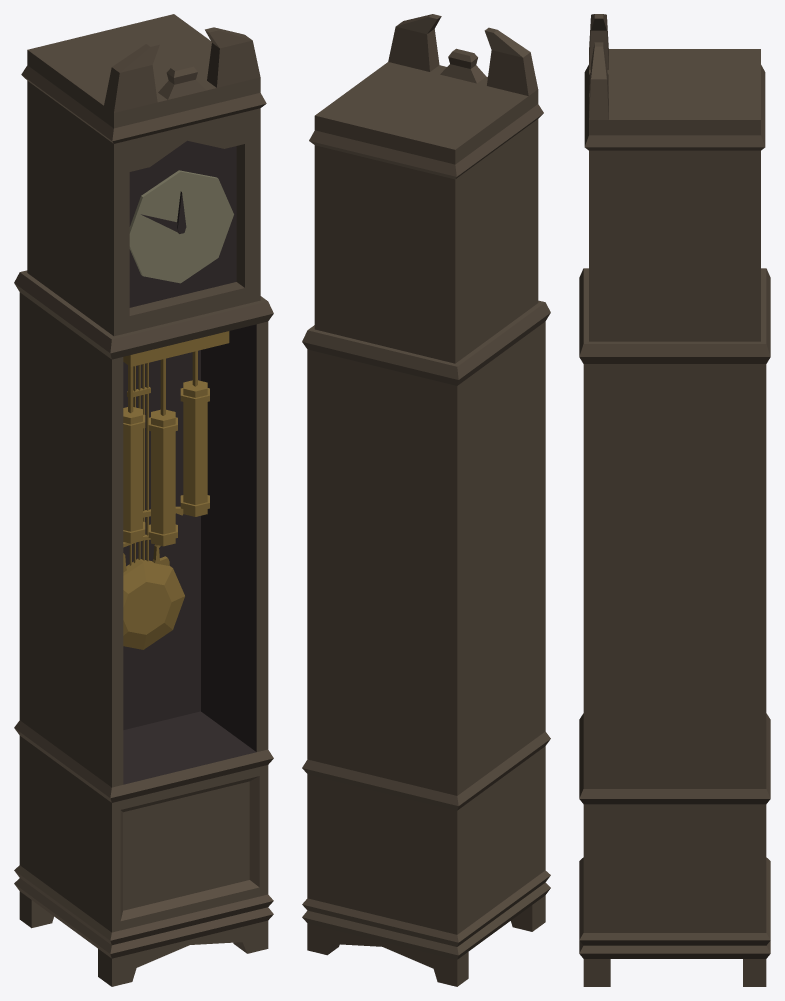
The model's file is WM_GrandfatherClock.fbx.
3 views of the same model, side by side, from view 1: azimuth 30°, elevation 25°; view 2: azimuth 150°, elevation 25°; view 3: azimuth 270°, elevation 25° (orthographic). The views are drawn at different scales.
Parts seen in each view (by area): view 1: Cube_45; view 2: Cube_45; view 3: Cube_45.
Part boxes in pixels (x1,y1,x2,y2): Cube_45: (14, 14, 273, 986); Cube_45: (302, 14, 550, 986); Cube_45: (579, 14, 770, 986).
Size of the model in its own units: 3.02 by 16.3 by 3.08.
